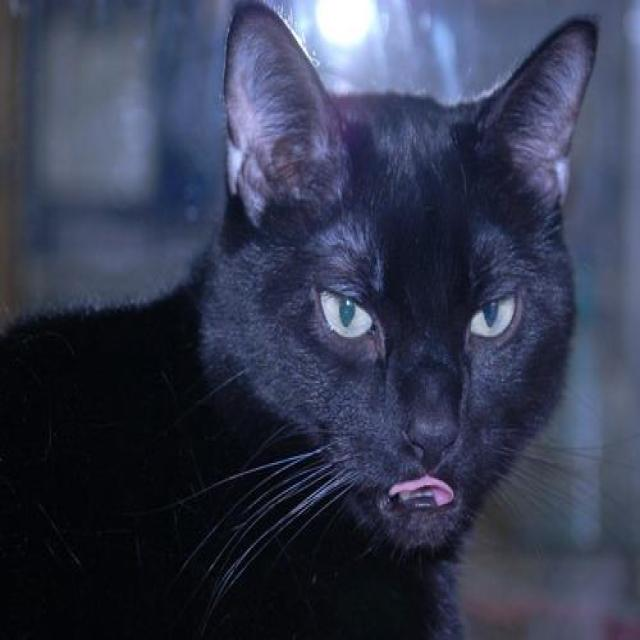Cat: (0, 0, 600, 638)
